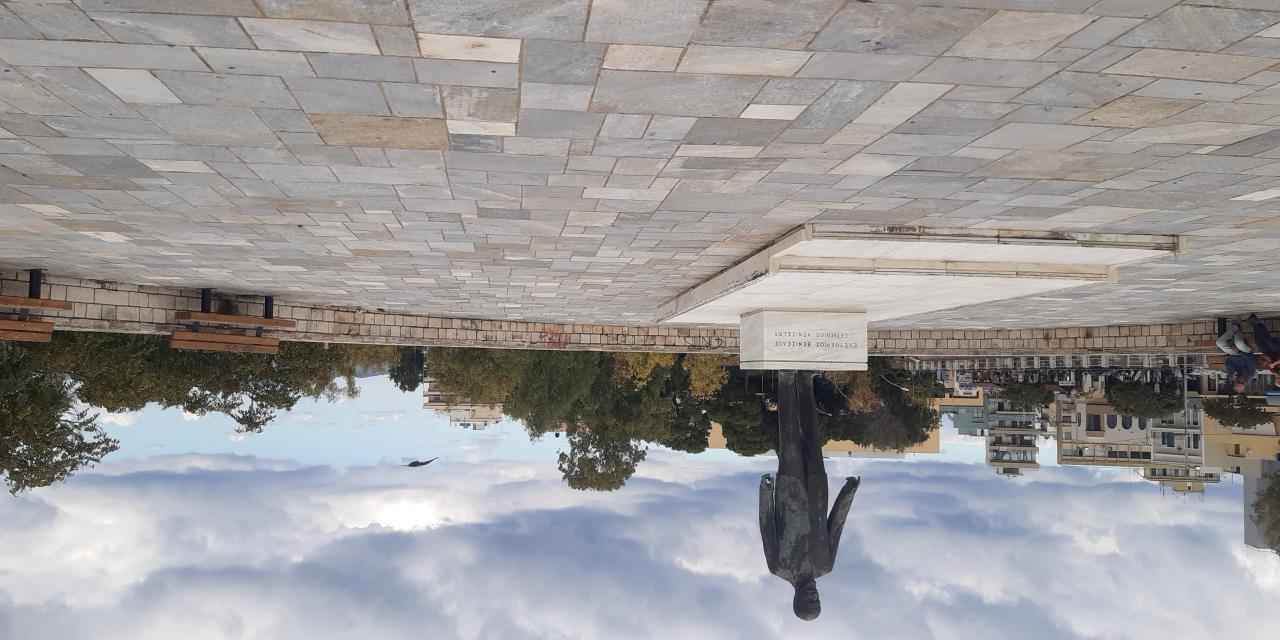Venizelos: (759, 371, 861, 621)
